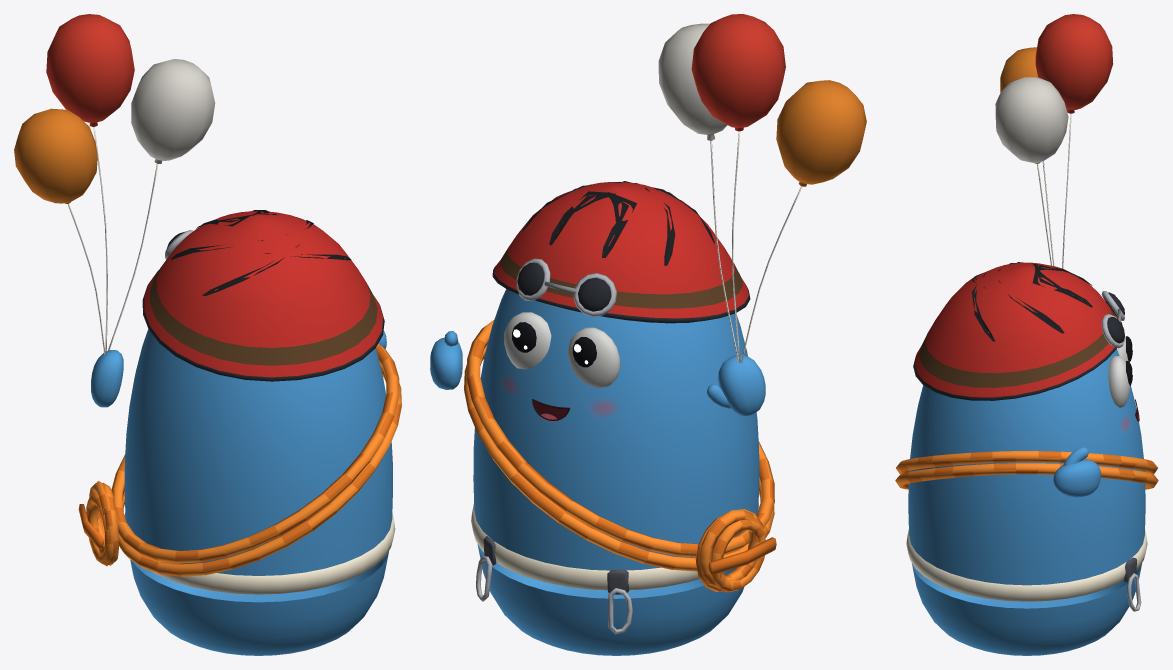
Rendered from vova.glb.
The picture shows the model from 3 angles, left to right: view 1: azimuth 30°, elevation 25°; view 2: azimuth 150°, elevation 25°; view 3: azimuth 270°, elevation 25°; orthographic projection. The views are drawn at different scales.
Parts seen in each view (by area): view 1: body, prop, hand.L; view 2: body, prop, eyes, hand.L, hand.R; view 3: body, prop, hand.R, eyes.
Boxes of the visible parts, <box> form: body: <box>78,210,401,655</box>; prop: <box>14,14,215,354</box>; hand.L: <box>91,350,123,407</box>; body: <box>464,181,776,655</box>; prop: <box>658,14,866,362</box>; eyes: <box>504,312,619,387</box>; hand.L: <box>707,355,765,416</box>; hand.R: <box>430,331,462,389</box>; body: <box>895,262,1158,655</box>; prop: <box>995,14,1113,268</box>; hand.R: <box>1053,447,1100,497</box>; eyes: <box>1108,336,1135,407</box>.
Size of the model in its own units: 1.67 by 2.58 by 1.13.
